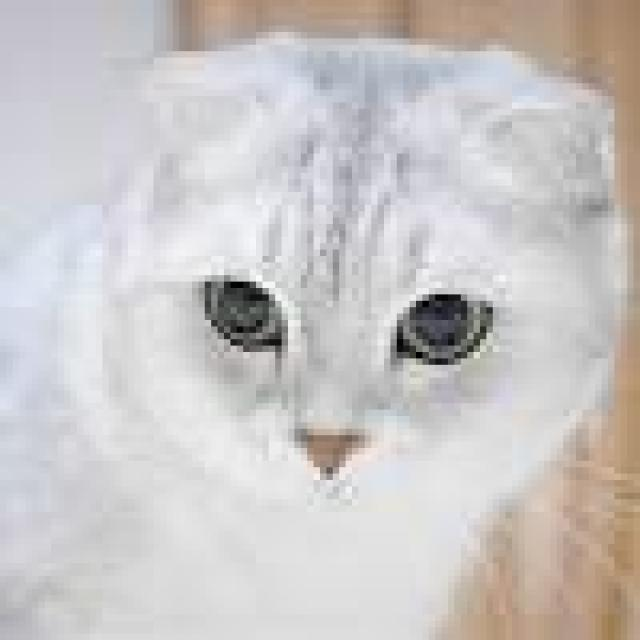cat-face: (116, 86, 603, 552)
